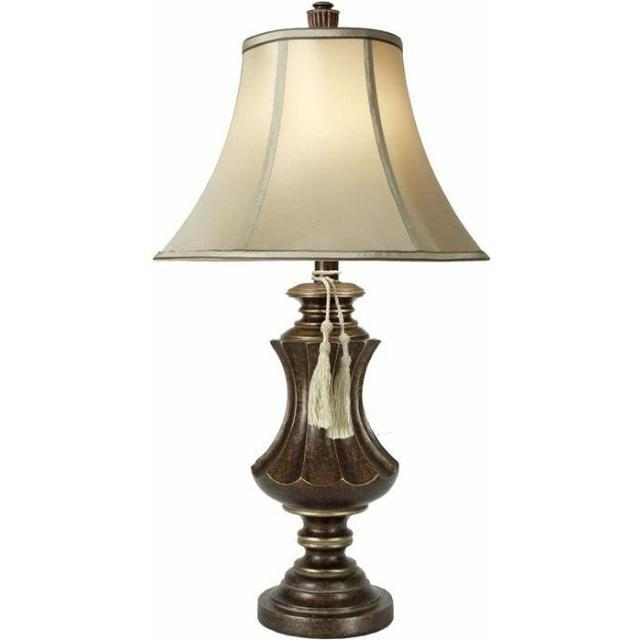lamp: (177, 4, 474, 640)
